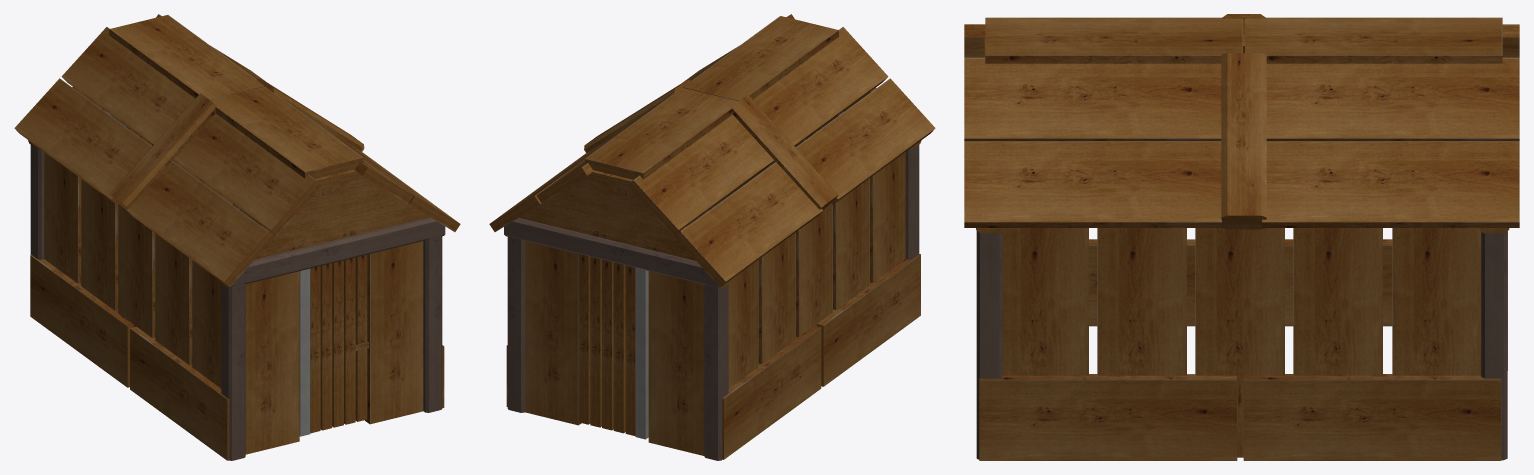
Rendered from Shack with 2 doors.fbx.
3 renders of one model, left to right at view 1: azimuth 30°, elevation 25°; view 2: azimuth 150°, elevation 25°; view 3: azimuth 270°, elevation 25°, orthographic. The views are drawn at different scales.
Parts seen in each view (by area): view 1: Shack, Door; view 2: Shack, Door.001; view 3: Shack.
Part boxes in pixels (x1,y1,x2,y2): Shack: [14, 14, 460, 460]; Door: [299, 255, 368, 436]; Shack: [489, 14, 935, 460]; Door.001: [578, 254, 648, 439]; Shack: [964, 14, 1519, 460].
Bounding box in the file's own units: 823 × 883 × 1239.
Materials: 1 (1 with a texture image).
